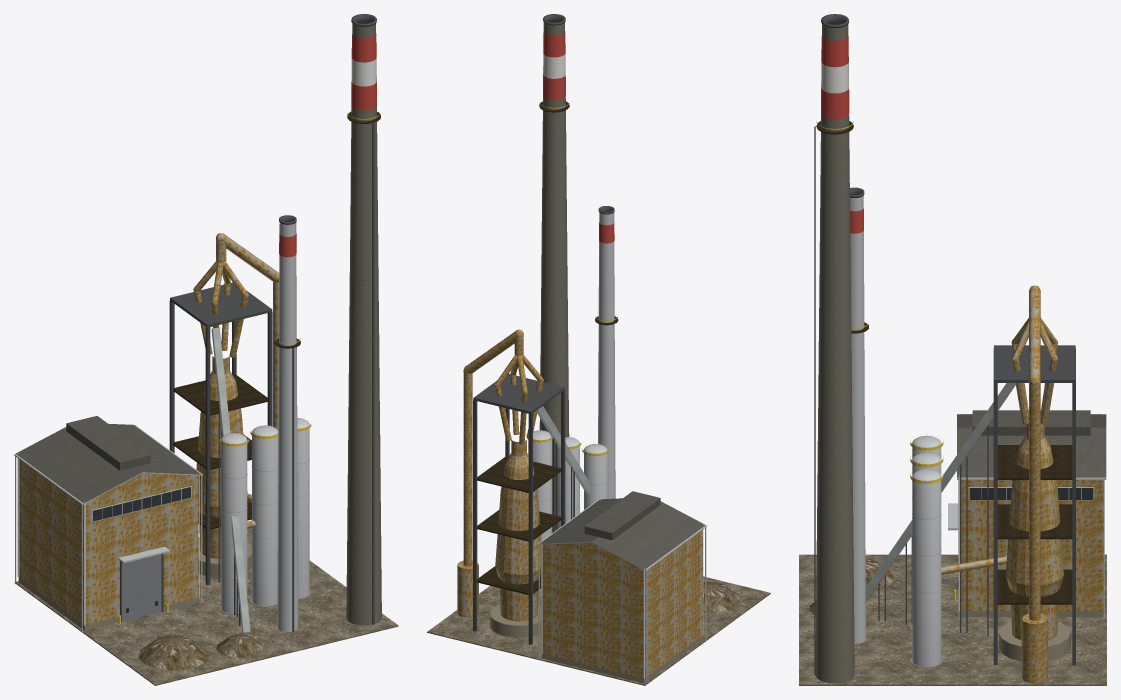
File: steel_mill.glb
3 views of the same model, side by side, from view 1: azimuth 30°, elevation 25°; view 2: azimuth 150°, elevation 25°; view 3: azimuth 270°, elevation 25° (orthographic). The views are drawn at different scales.
Visible parts, largest first — view 1: steel_mill_body; view 2: steel_mill_body; view 3: steel_mill_body.
Boxes of the visible parts, <box> form: steel_mill_body: <box>14,14,398,685</box>; steel_mill_body: <box>427,14,770,685</box>; steel_mill_body: <box>799,14,1106,685</box>.
Bounding box in the file's own units: 0.943 × 2.21 × 0.94.
Materials: 20 (9 with a texture image).
